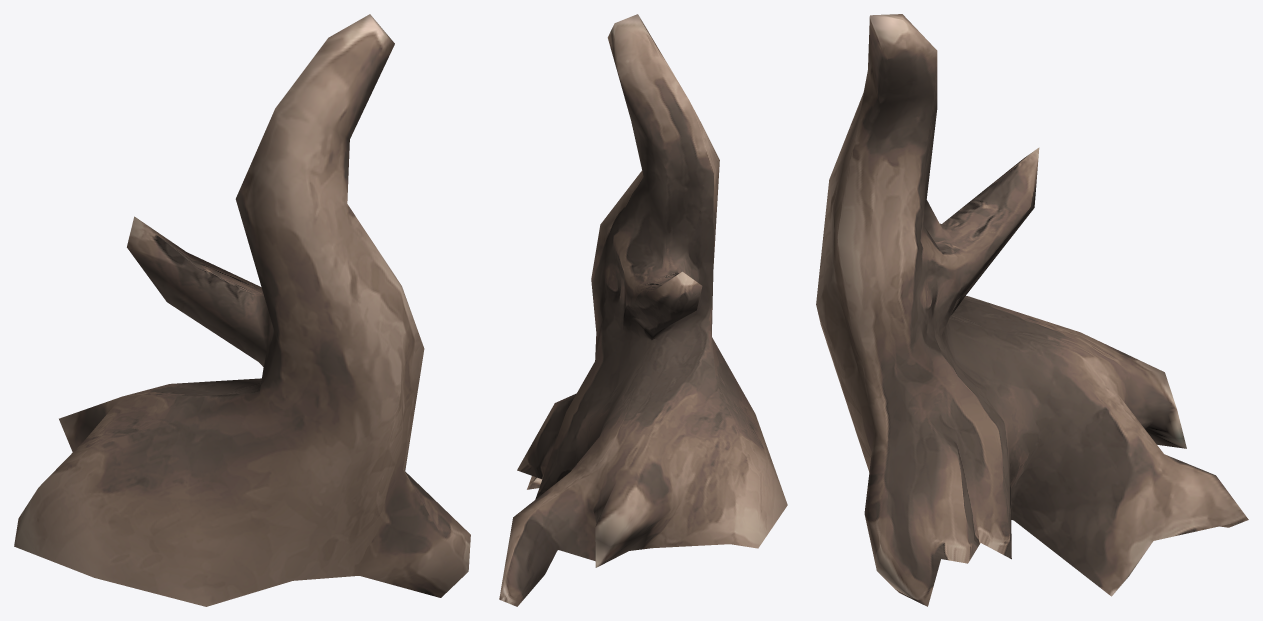
File: PRP_Tree_01.FBX
The picture shows the model from 3 angles, left to right: view 1: azimuth 30°, elevation 25°; view 2: azimuth 150°, elevation 25°; view 3: azimuth 270°, elevation 25°; orthographic projection. The views are drawn at different scales.
Visible parts, largest first — view 1: PRP_Tree_01; view 2: PRP_Tree_01; view 3: PRP_Tree_01.
Boxes of the visible parts, bbox=[...] form: PRP_Tree_01: bbox=[14, 14, 470, 606]; PRP_Tree_01: bbox=[499, 14, 787, 606]; PRP_Tree_01: bbox=[816, 14, 1248, 606].
Bounding box in the file's own units: 0.6584 × 1.08 × 0.7469.
